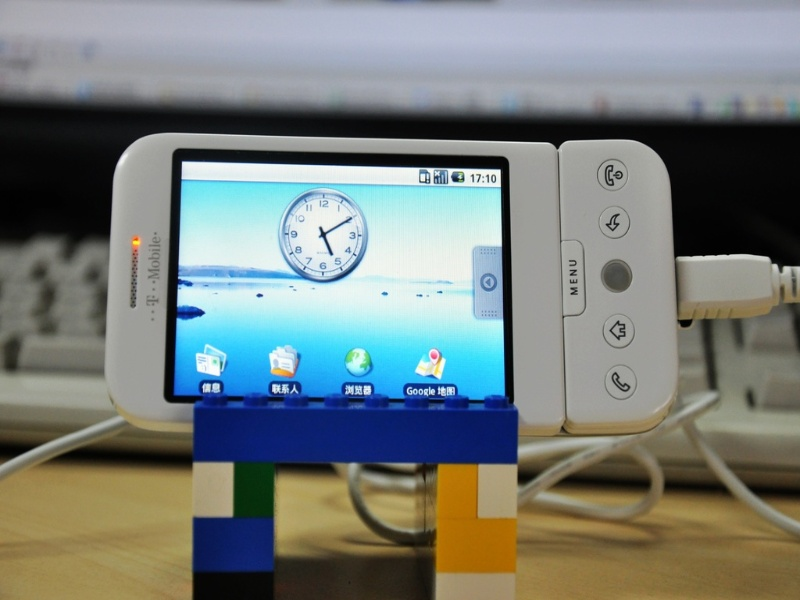cellphone: (110, 124, 573, 438)
